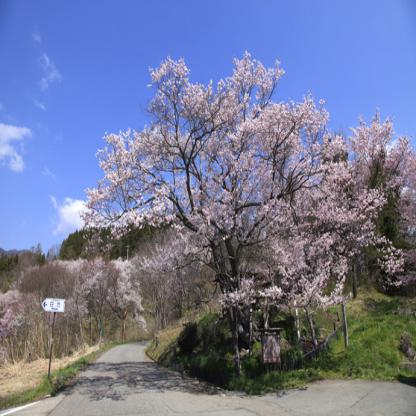Someiyoshino: (75, 47, 403, 299), (338, 111, 414, 288), (112, 259, 145, 333), (1, 288, 32, 339)
